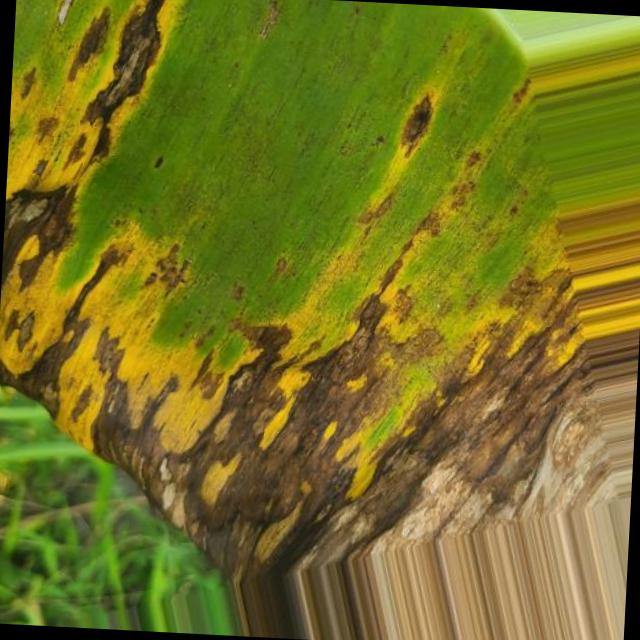Banana_Black_Sigatoka: (162, 290, 619, 573), (0, 0, 181, 483), (336, 69, 504, 292)
